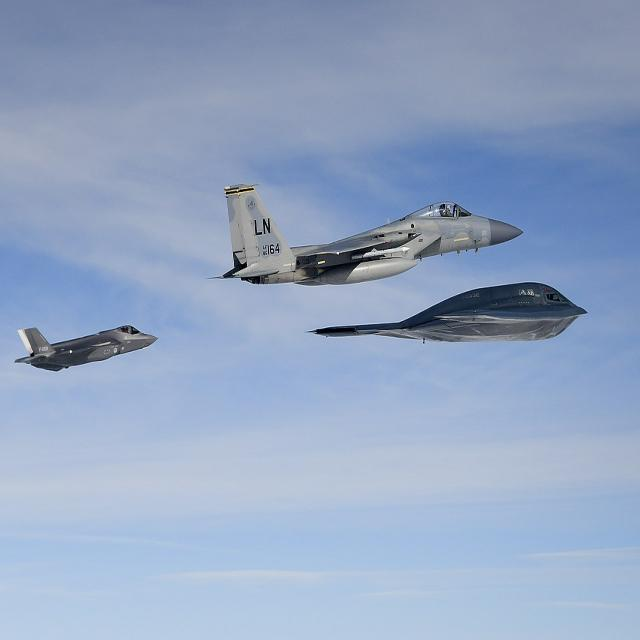MIL_Plane: (205, 183, 525, 287), (304, 281, 588, 344), (13, 324, 158, 373)
